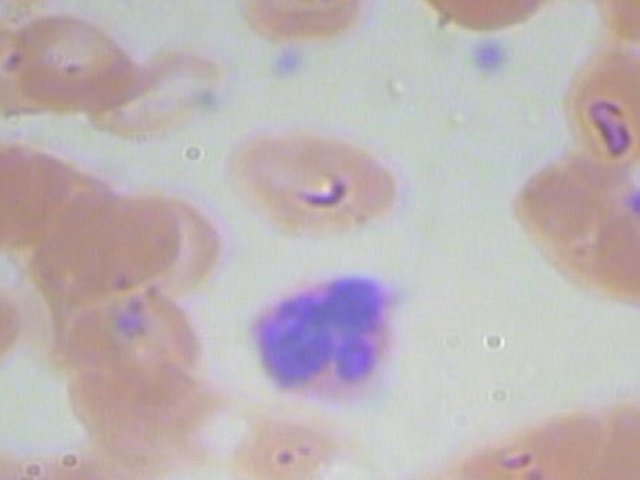Platelets: (266, 38, 321, 89), (460, 36, 514, 86)
RBC: (222, 120, 401, 242), (89, 43, 244, 145), (50, 192, 181, 294), (14, 13, 145, 114), (555, 45, 640, 177), (224, 400, 355, 480), (468, 407, 599, 480), (0, 135, 70, 257), (542, 396, 640, 480), (231, 0, 387, 52), (427, 0, 573, 38), (589, 0, 640, 46)
WBC: (235, 262, 406, 416)
